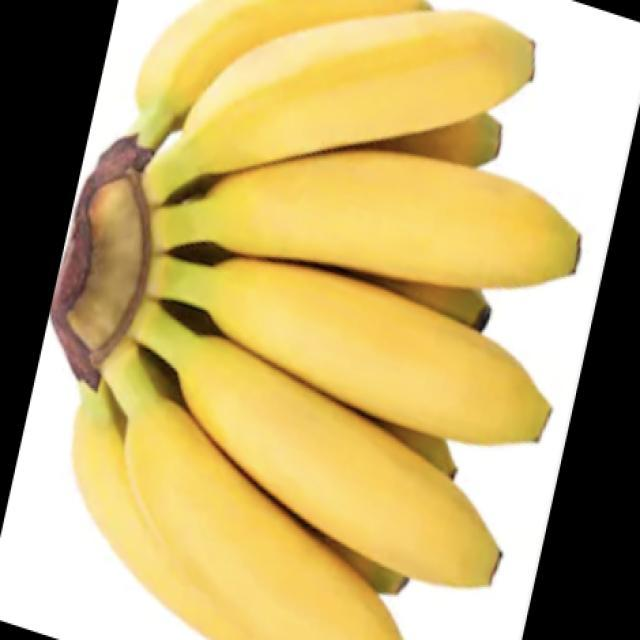Banana: (49, 0, 582, 639)
